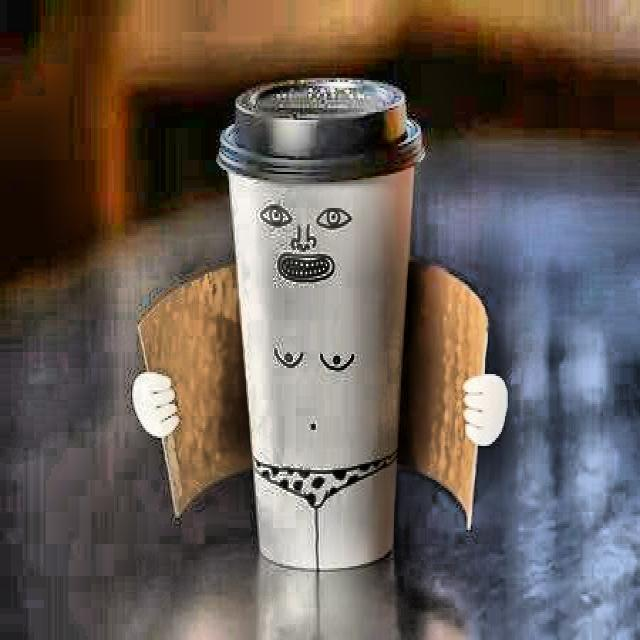Cup: (220, 67, 421, 575)
